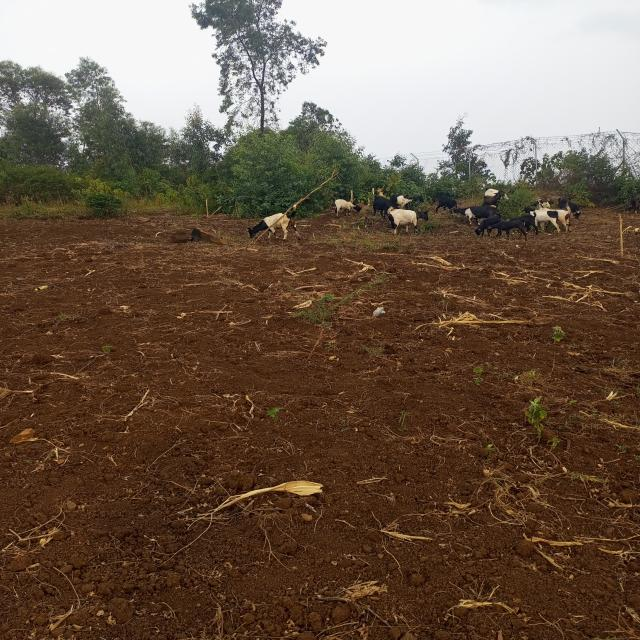goat: (243, 210, 305, 243)
